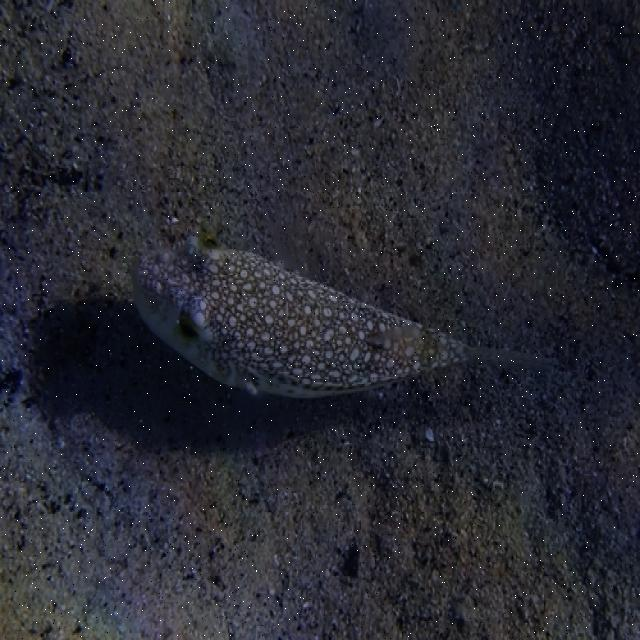Balik: (134, 234, 555, 397)
